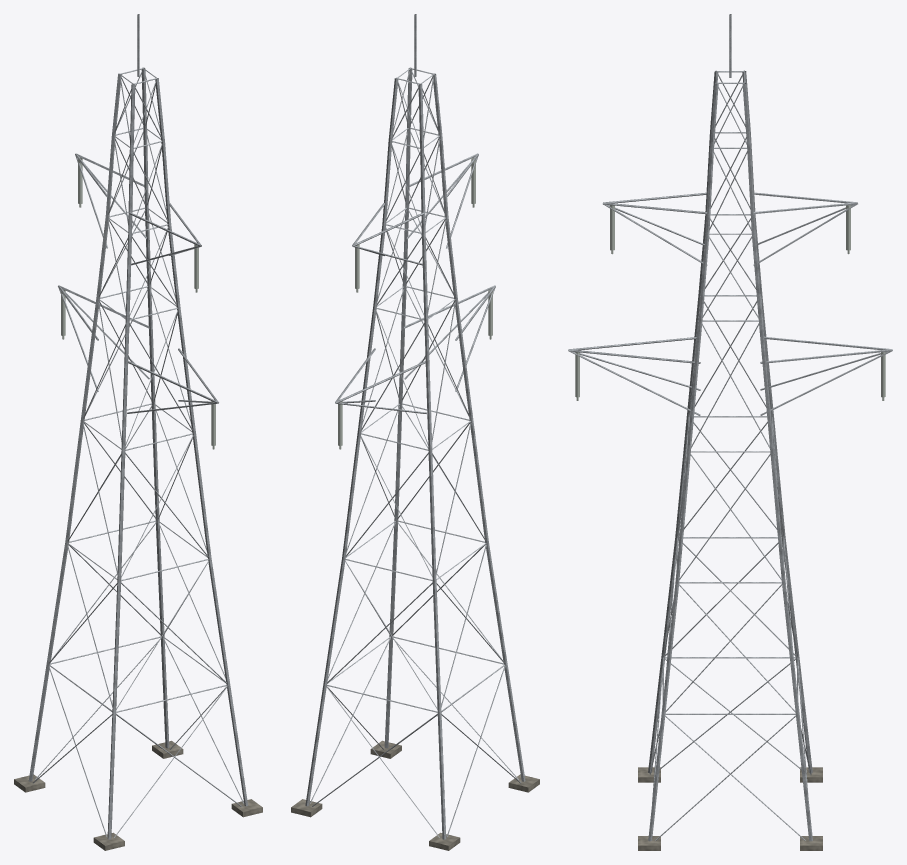
Rendered from power_pylon.glb.
3 renders of one model, left to right at view 1: azimuth 30°, elevation 25°; view 2: azimuth 150°, elevation 25°; view 3: azimuth 270°, elevation 25°, orthographic.
Visible parts, largest first — view 1: power_pylon; view 2: power_pylon; view 3: power_pylon.
Boxes of the visible parts, bbox=[...] form: power_pylon: bbox=[14, 14, 262, 850]; power_pylon: bbox=[291, 14, 539, 850]; power_pylon: bbox=[568, 14, 892, 850].
Bounding box in the file's own units: 8 × 38.02 × 14.03.
Materials: 3 (2 with a texture image).
